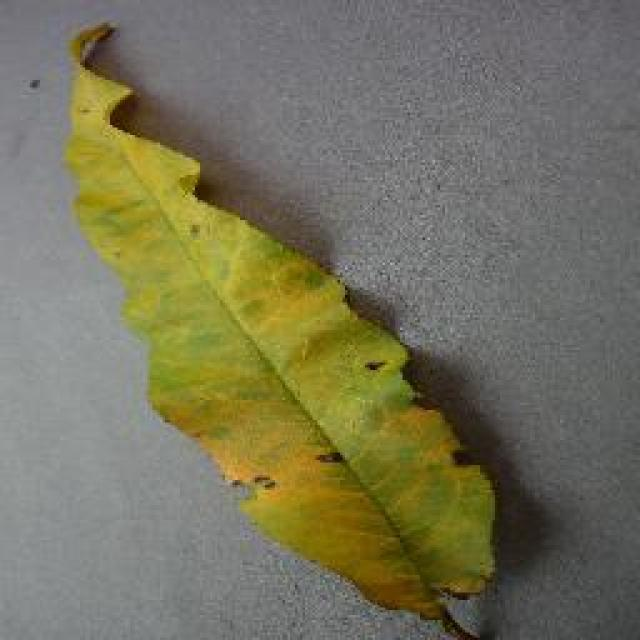Bacterial_spot: (60, 14, 519, 640)
